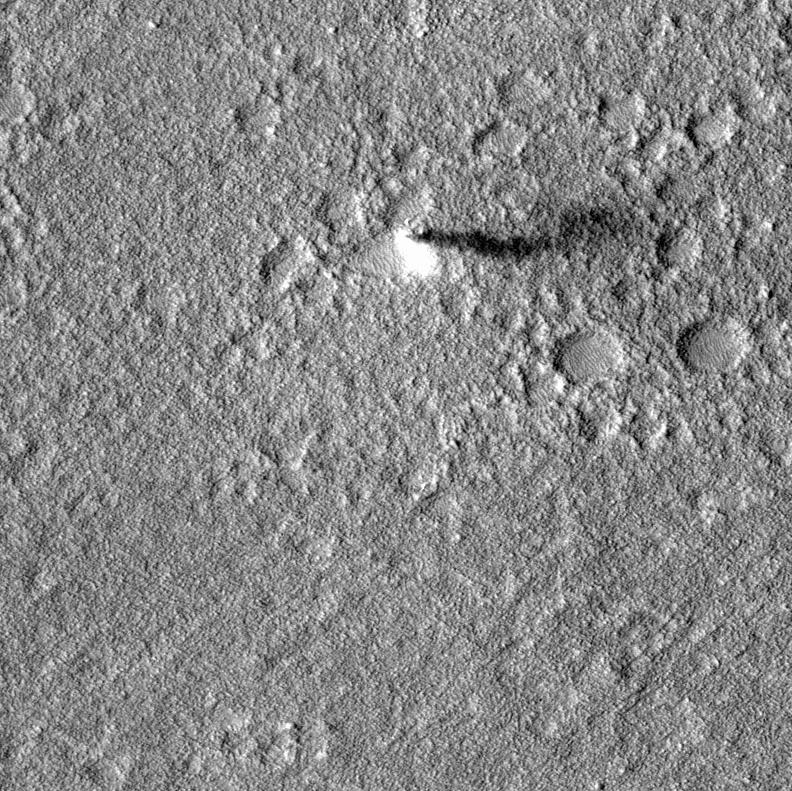dust_devil: (388, 197, 638, 282)
